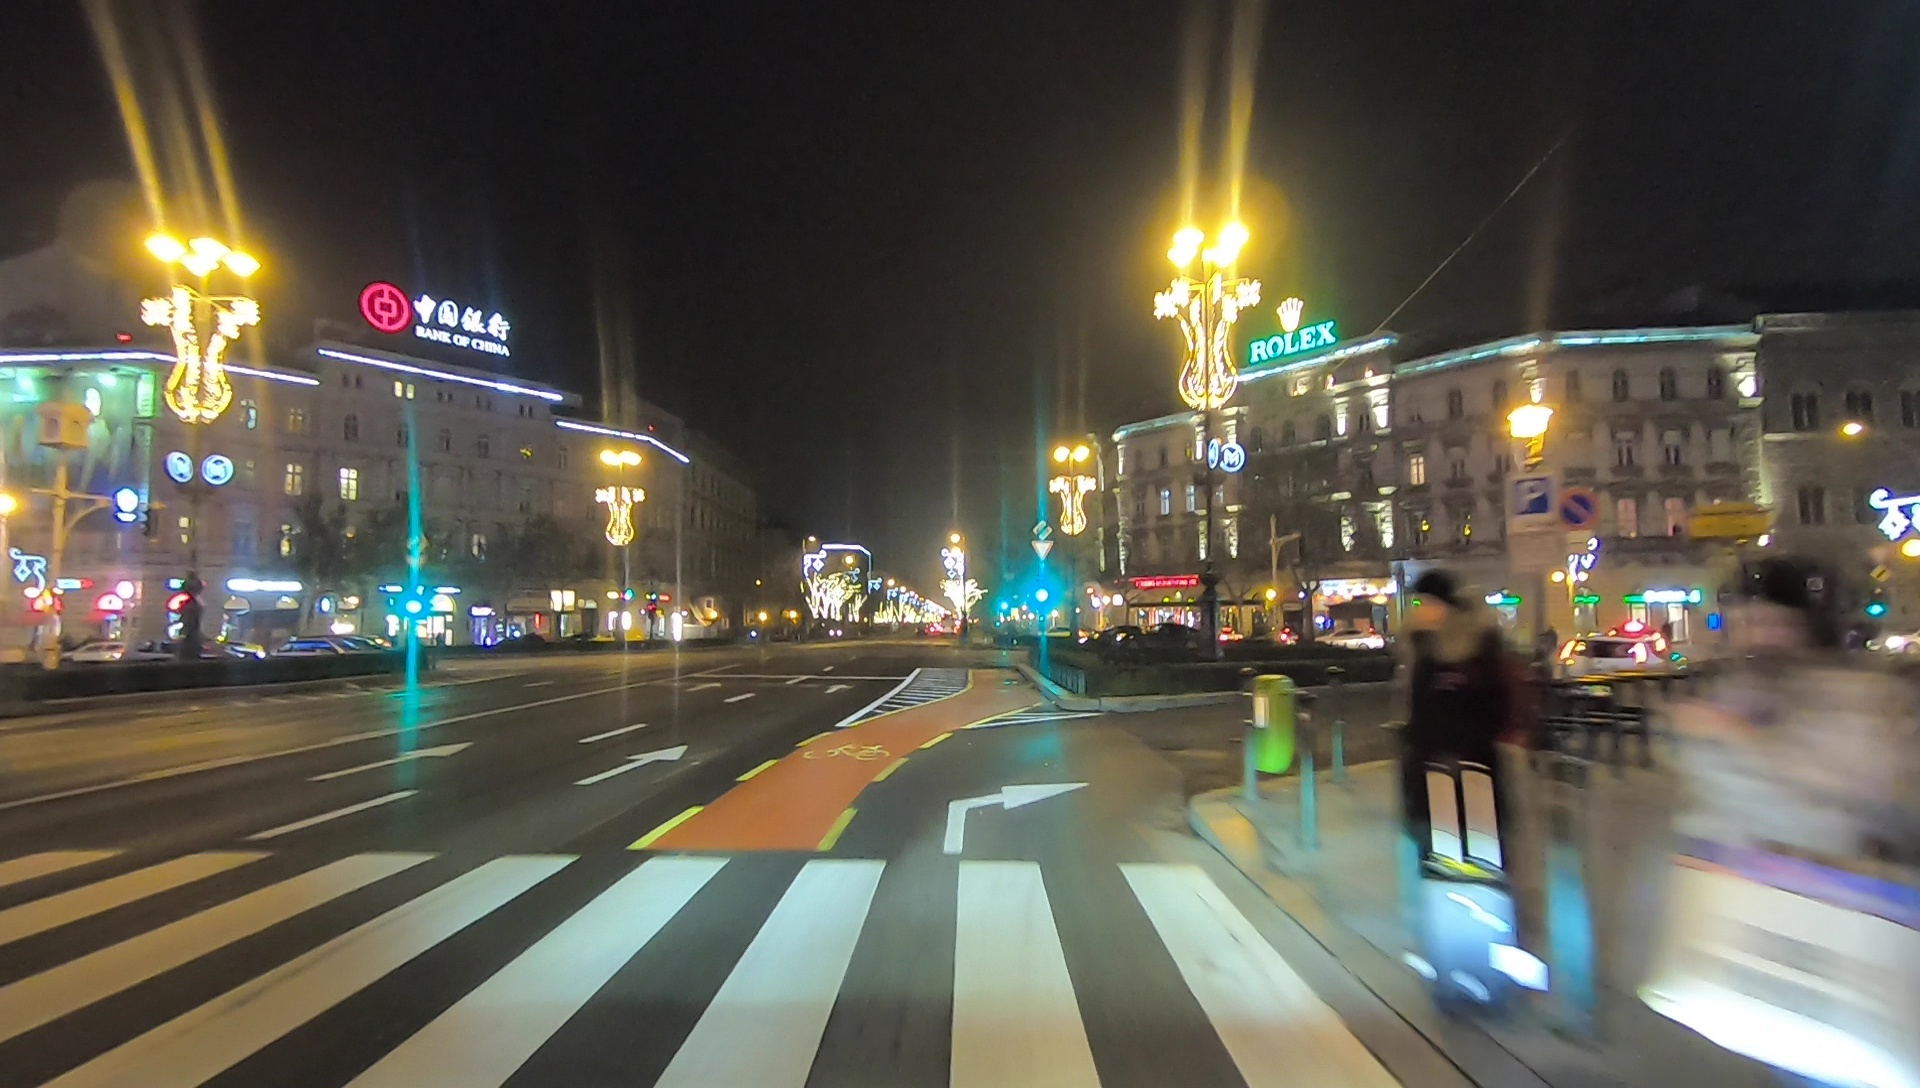person: (1662, 573, 1902, 1088), (1397, 573, 1528, 1021)
